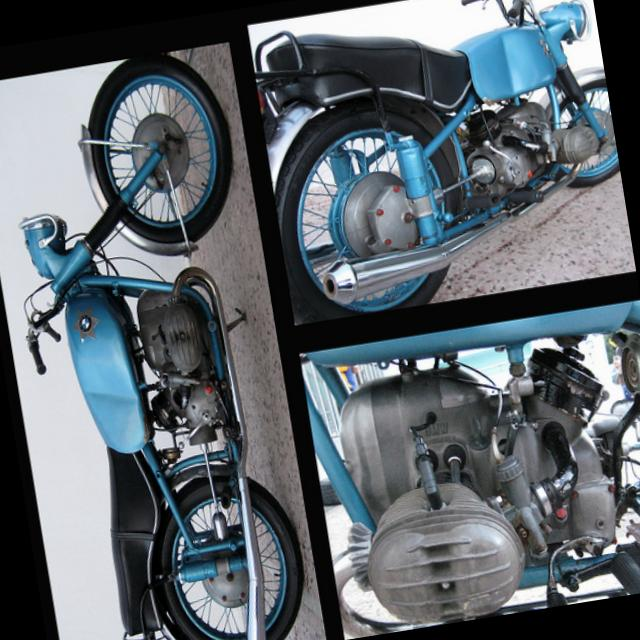Vehicle: (0, 46, 312, 640), (247, 0, 636, 324), (288, 293, 640, 640)
